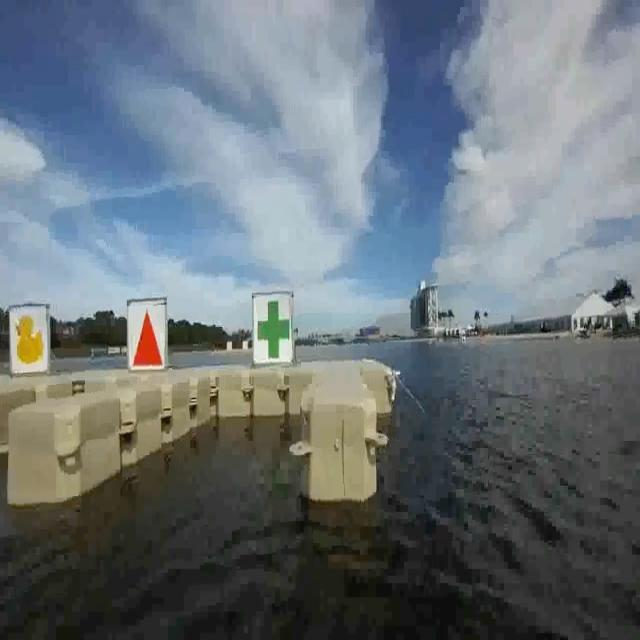blue-cross: (253, 292, 298, 370)
red-dot: (130, 301, 169, 374)
yellow-duck: (5, 308, 52, 374)
